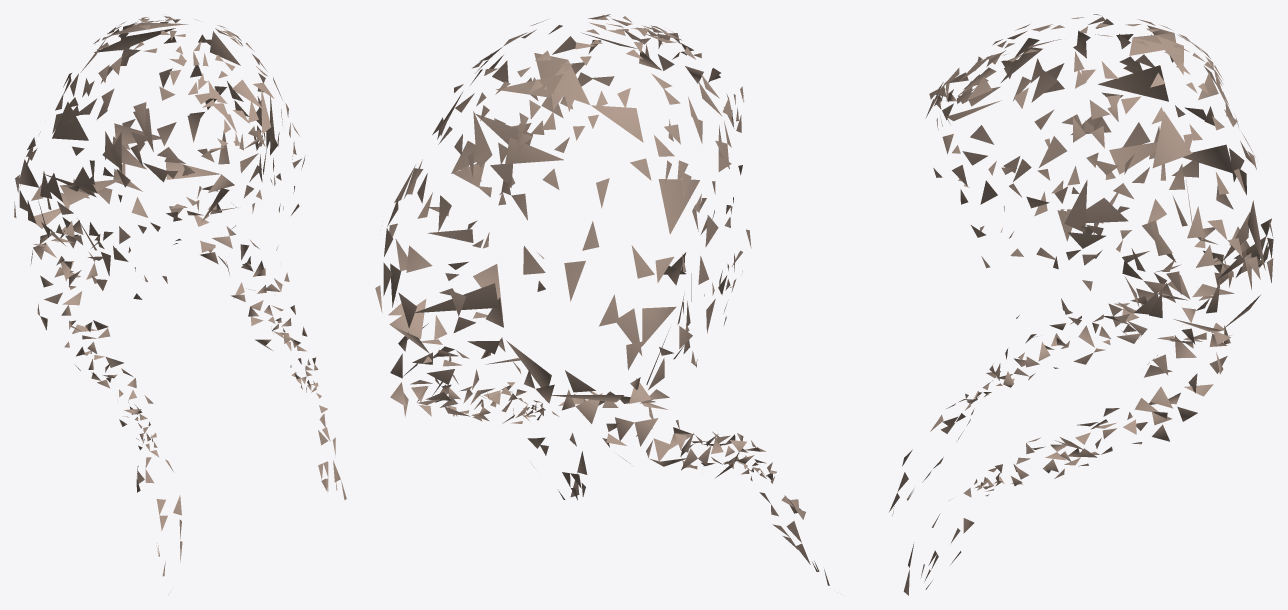
File: female_hair_10_lod2.glb
The picture shows the model from 3 angles, left to right: view 1: azimuth 30°, elevation 25°; view 2: azimuth 150°, elevation 25°; view 3: azimuth 270°, elevation 25°; orthographic projection. The views are drawn at different scales.
Parts seen in each view (by area): view 1: female-hair-10; view 2: female-hair-10; view 3: female-hair-10.
Part boxes in pixels (x1,y1,x2,y2): female-hair-10: [14, 14, 346, 594]; female-hair-10: [375, 14, 829, 585]; female-hair-10: [889, 14, 1273, 595].
Size of the model in its own units: 0.2191 by 0.4188 by 0.2718.
